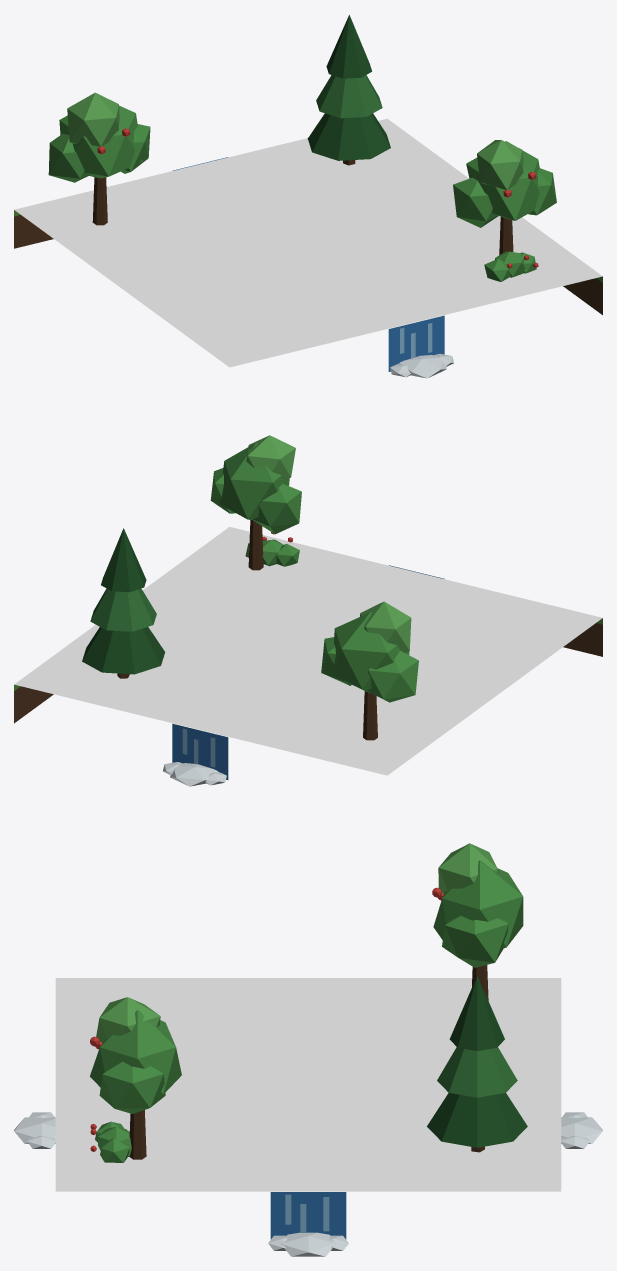
Rendered from wTee.glb.
The picture shows the model from 3 angles, top to bottom: view 1: azimuth 30°, elevation 25°; view 2: azimuth 150°, elevation 25°; view 3: azimuth 270°, elevation 25°; orthographic projection. The views are drawn at different scales.
Visible parts, largest first — view 1: wTee, fall_S; view 2: wTee, fall_N; view 3: wTee, fall_E, fall_N, fall_S.
Boxes of the visible parts, x1,y1,x2,y2 form: wTee: [14, 15, 602, 367]; fall_S: [388, 315, 453, 378]; wTee: [14, 435, 602, 775]; fall_N: [163, 723, 228, 786]; wTee: [55, 843, 561, 1191]; fall_E: [268, 1192, 348, 1256]; fall_N: [561, 1112, 602, 1148]; fall_S: [14, 1112, 55, 1148].
Size of the model in its own units: 2.17 by 0.9925 by 2.33.
